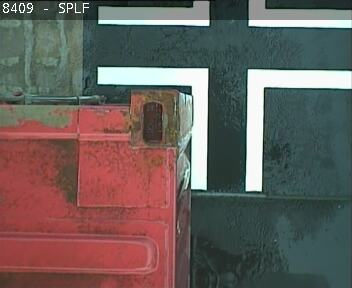groundmarker_1: (97, 66, 351, 191)
